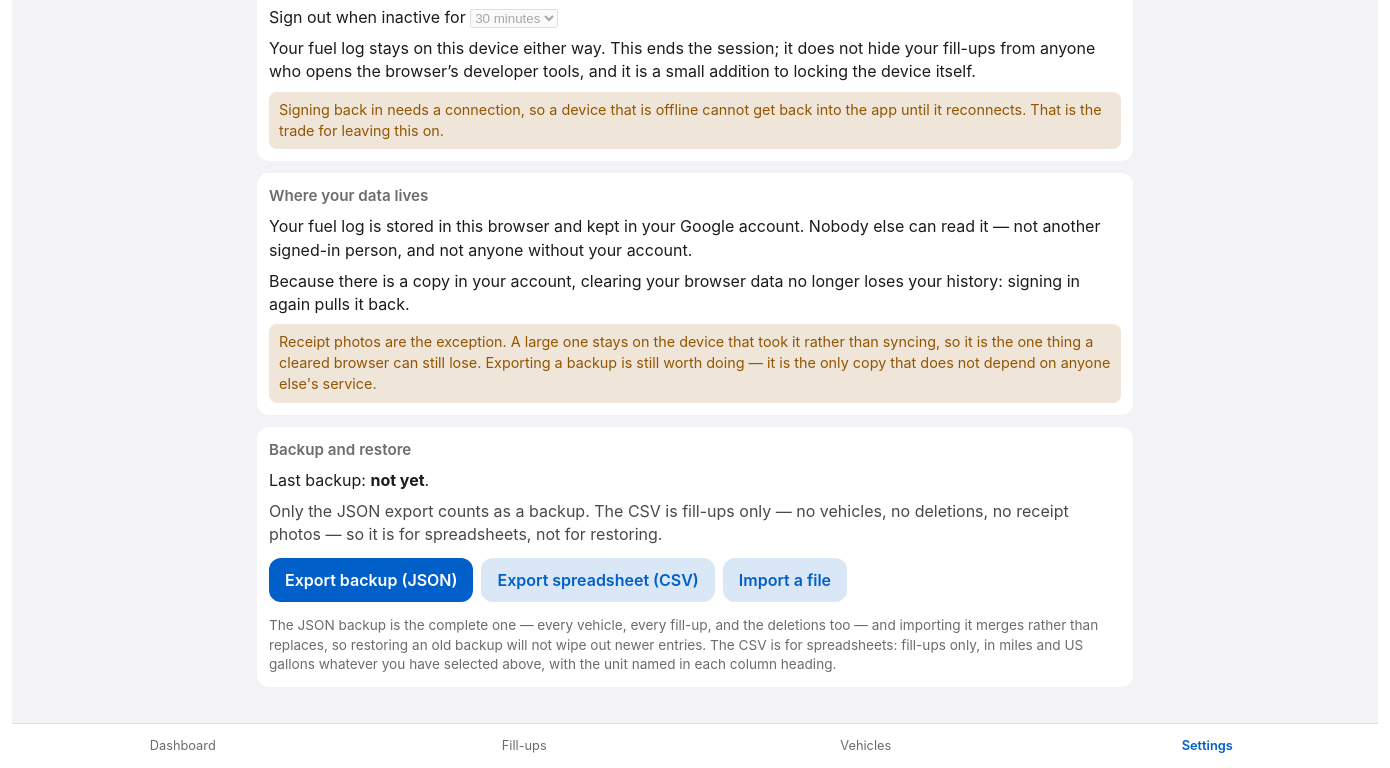
it: exporting › offers a complete JSON backup and says what is in it
The width and height of the screenshot is (1390, 768).
(page scrolled)
Expected: the heading "Backup and restore" is shown, [269,440,411,459]
Click the button "Export backup (JSON)" at (371, 580), box [269,558,474,602]
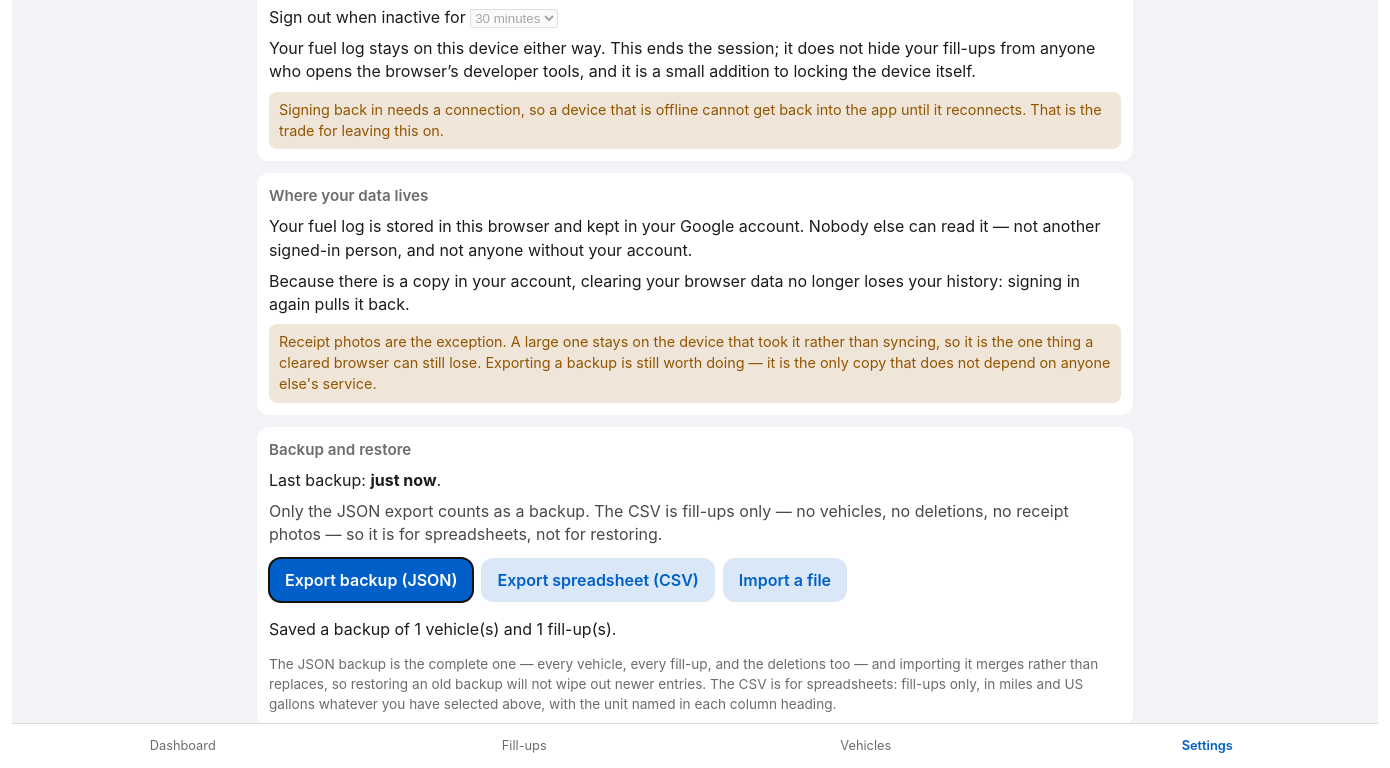
Expected: the message shows "1 vehicle(s) and 1 fill-up(s)", [269,619,616,639]
